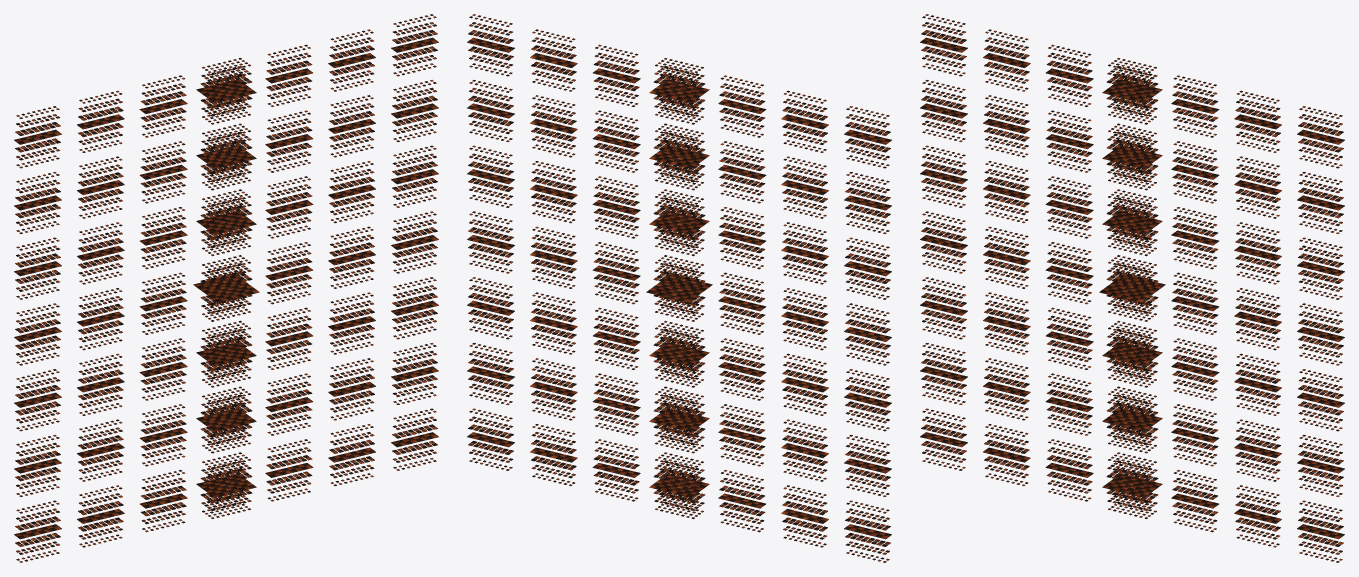
Rendered from xkcd-nD-chess.fbx.
The picture shows the model from 3 angles, left to right: view 1: azimuth 30°, elevation 25°; view 2: azimuth 150°, elevation 25°; view 3: azimuth 330°, elevation 25°; orthographic projection.
Parts seen in each view (by area): view 1: Standard.001; view 2: Standard.001; view 3: Standard.001.
Boxes of the visible parts, x1,y1,x2,y2 form: Standard.001: (14, 14, 438, 562); Standard.001: (467, 14, 891, 562); Standard.001: (920, 14, 1344, 562).
Size of the model in its own units: 2000 by 2028 by 200.
